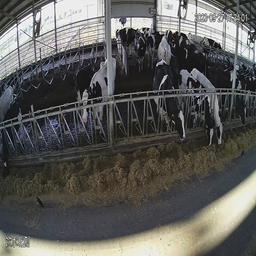cow: (82, 54, 118, 146), (153, 58, 184, 160), (182, 69, 213, 153), (1, 95, 23, 185), (227, 81, 247, 129), (213, 84, 225, 156), (115, 24, 134, 56), (134, 30, 146, 78), (189, 29, 210, 51), (146, 25, 157, 62), (159, 30, 171, 62)
